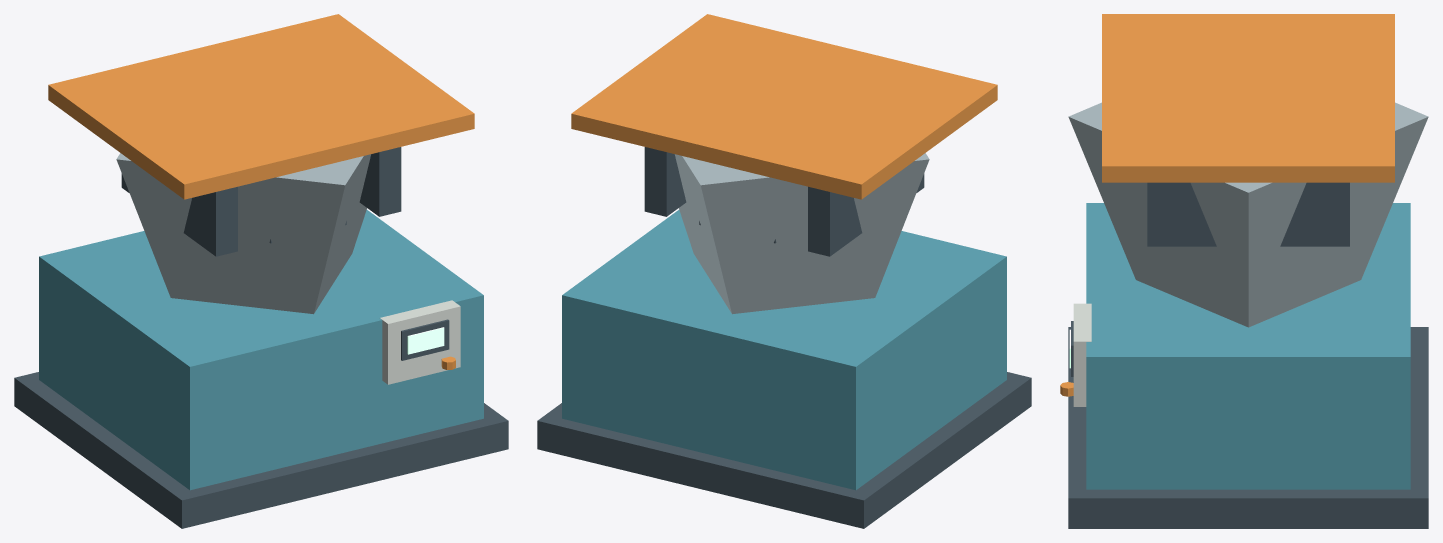
Rendered from crusher.glb.
3 renders of one model, left to right at view 1: azimuth 30°, elevation 25°; view 2: azimuth 150°, elevation 25°; view 3: azimuth 270°, elevation 25°, orthographic. The views are drawn at different scales.
Parts seen in each view (by area): view 1: blue, orange, dark, steel, cream, light; view 2: blue, orange, dark, steel; view 3: blue, orange, steel, dark, cream.
Boxes of the visible parts, left/top/right/bottom form: blue: left=39, top=210, right=483, bottom=490; orange: left=48, top=14, right=474, bottom=369; dark: left=14, top=147, right=508, bottom=528; steel: left=116, top=153, right=371, bottom=314; cream: left=380, top=300, right=460, bottom=384; light: left=407, top=327, right=444, bottom=354; blue: left=562, top=210, right=1006, bottom=490; orange: left=571, top=14, right=997, bottom=199; dark: left=537, top=147, right=1031, bottom=528; steel: left=674, top=153, right=929, bottom=314; blue: left=1086, top=203, right=1410, bottom=489; orange: left=1060, top=14, right=1394, bottom=396; steel: left=1068, top=102, right=1428, bottom=327; dark: left=1068, top=182, right=1428, bottom=528; cream: left=1073, top=303, right=1091, bottom=406.
Bounding box in the file's own units: 1.8 × 1.73 × 1.64.
